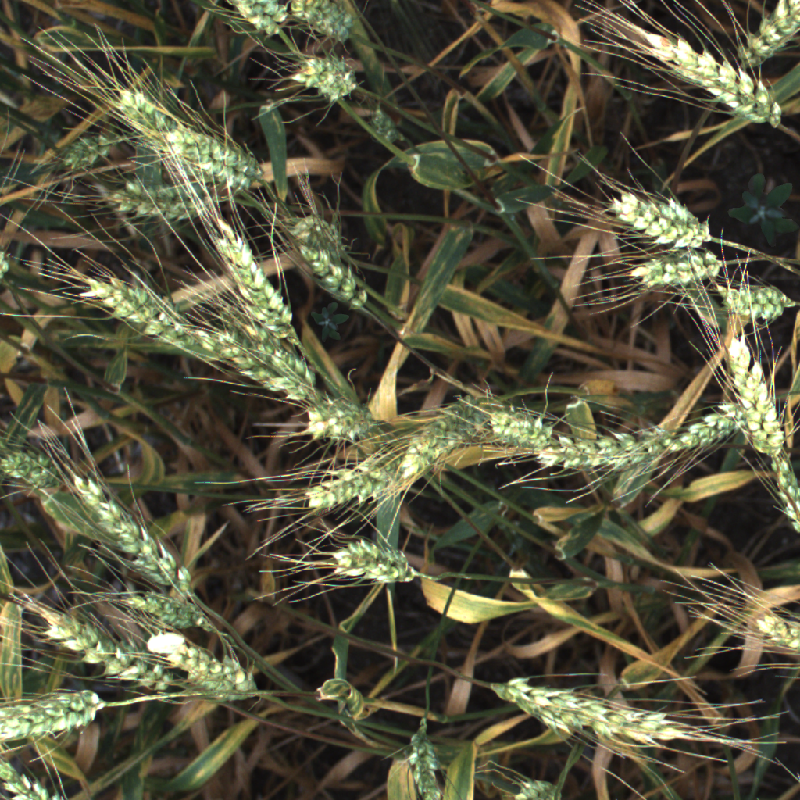spikelet: (56, 461, 206, 607), (636, 17, 798, 130), (494, 665, 701, 752), (22, 595, 188, 696), (72, 269, 210, 359), (722, 335, 795, 468), (215, 217, 294, 338), (296, 443, 417, 514), (531, 423, 666, 481), (596, 181, 711, 249), (286, 228, 375, 314), (1, 681, 107, 744), (402, 396, 488, 471), (663, 394, 757, 459), (223, 346, 310, 410), (165, 129, 260, 185), (164, 644, 256, 700), (399, 706, 452, 800), (107, 75, 179, 144), (733, 1, 800, 69), (118, 590, 218, 634), (755, 451, 800, 540), (635, 246, 719, 289), (242, 332, 317, 378), (107, 185, 207, 217), (337, 541, 411, 584), (310, 396, 375, 444), (217, 1, 291, 39), (715, 280, 785, 320), (488, 407, 553, 450), (296, 57, 357, 99), (292, 1, 352, 43), (1, 757, 61, 799), (1, 446, 60, 484), (294, 217, 348, 254), (63, 132, 113, 168), (752, 615, 799, 648), (371, 106, 404, 140), (502, 778, 560, 797)
weed: (718, 161, 800, 259), (311, 302, 349, 342)
